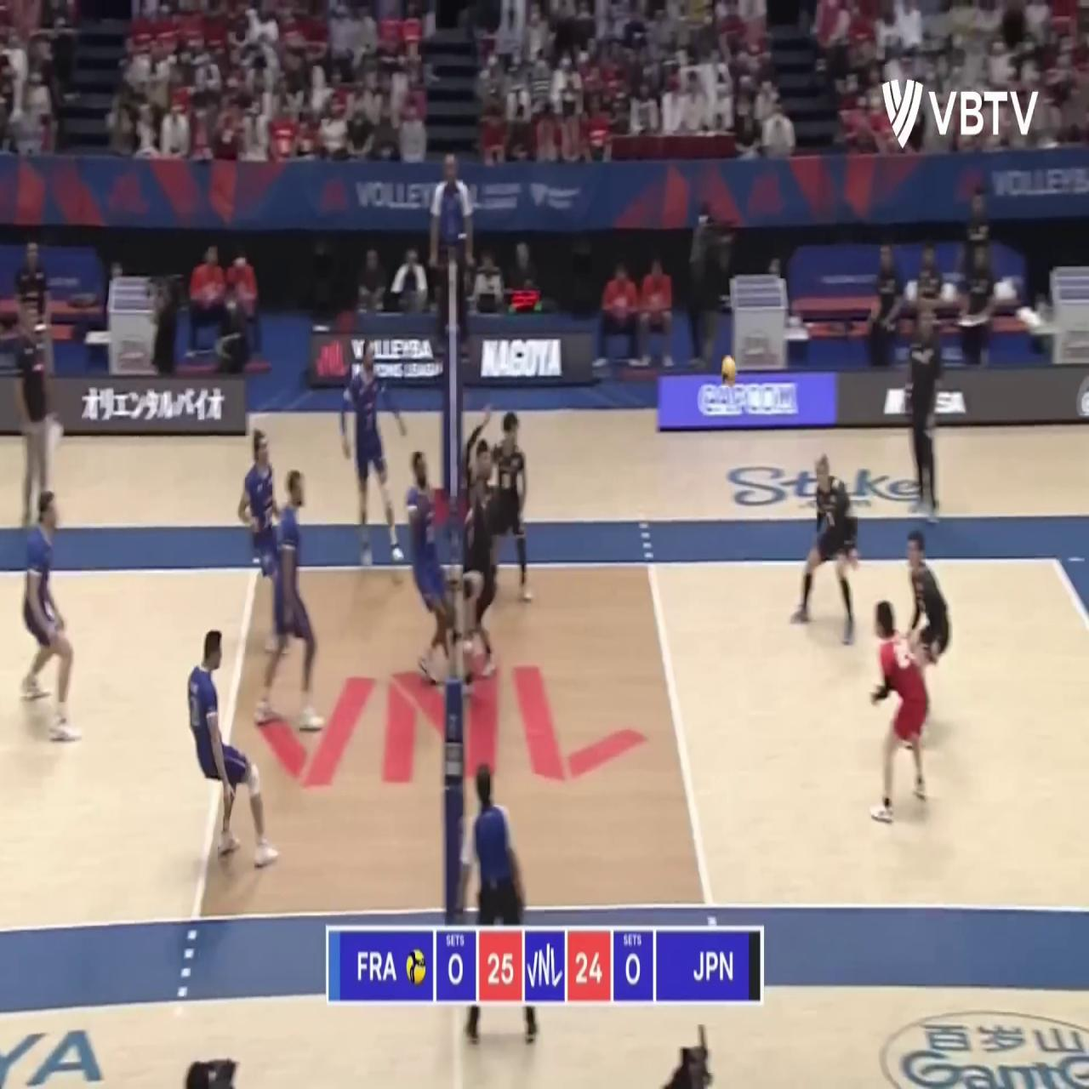ball: (720, 355, 737, 387)
